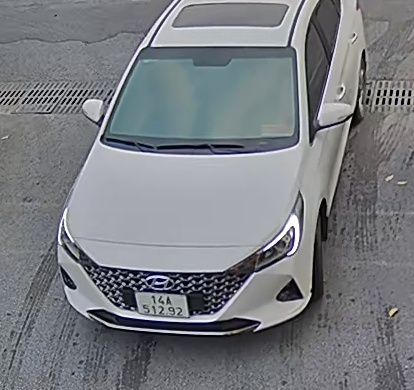vehicle plate: (132, 287, 190, 317)
